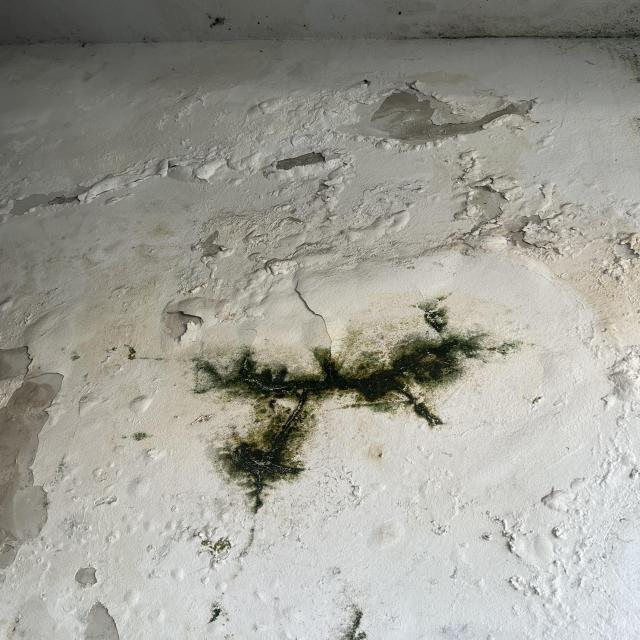mildew: (185, 290, 516, 507)
spalling: (2, 343, 90, 564), (322, 75, 535, 152)
